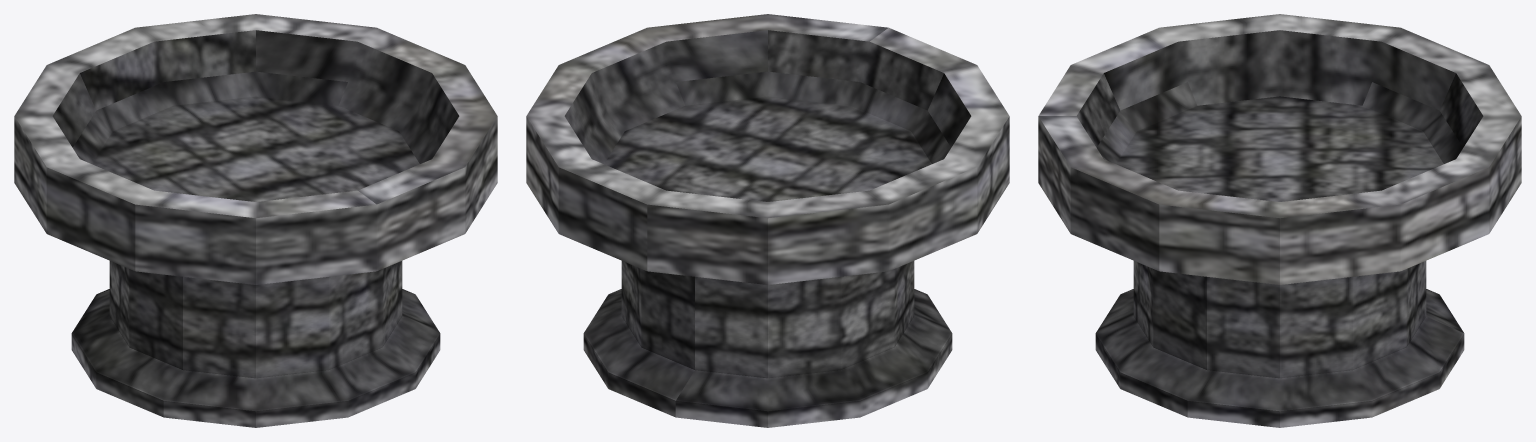
Rendered from bg_beacon_textured.fbx.
3 renders of one model, left to right at view 1: azimuth 30°, elevation 25°; view 2: azimuth 150°, elevation 25°; view 3: azimuth 270°, elevation 25°, orthographic.
Parts seen in each view (by area): view 1: pCylinder1; view 2: pCylinder1; view 3: pCylinder1.
Part boxes in pixels (x1,y1,x2,y2): pCylinder1: (14, 14, 497, 427); pCylinder1: (526, 14, 1009, 427); pCylinder1: (1038, 14, 1521, 427).
Bounding box in the file's own units: 1.88 × 1 × 1.88.
Materials: 1 (1 with a texture image).
